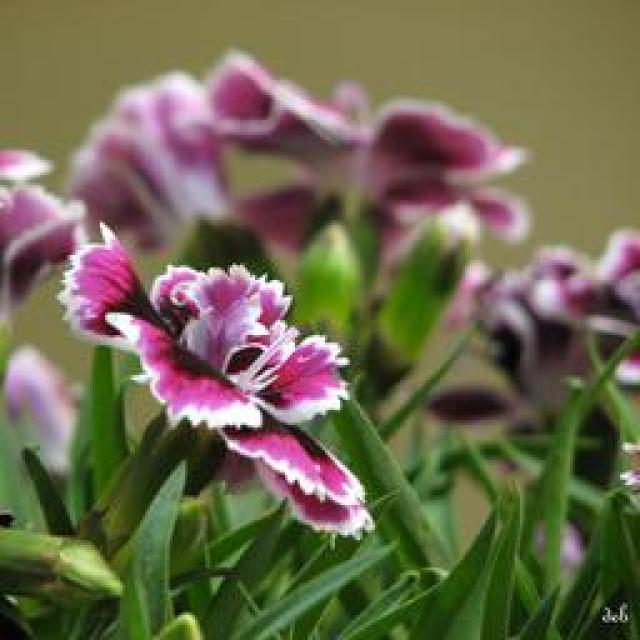carnation: (56, 219, 385, 563)
